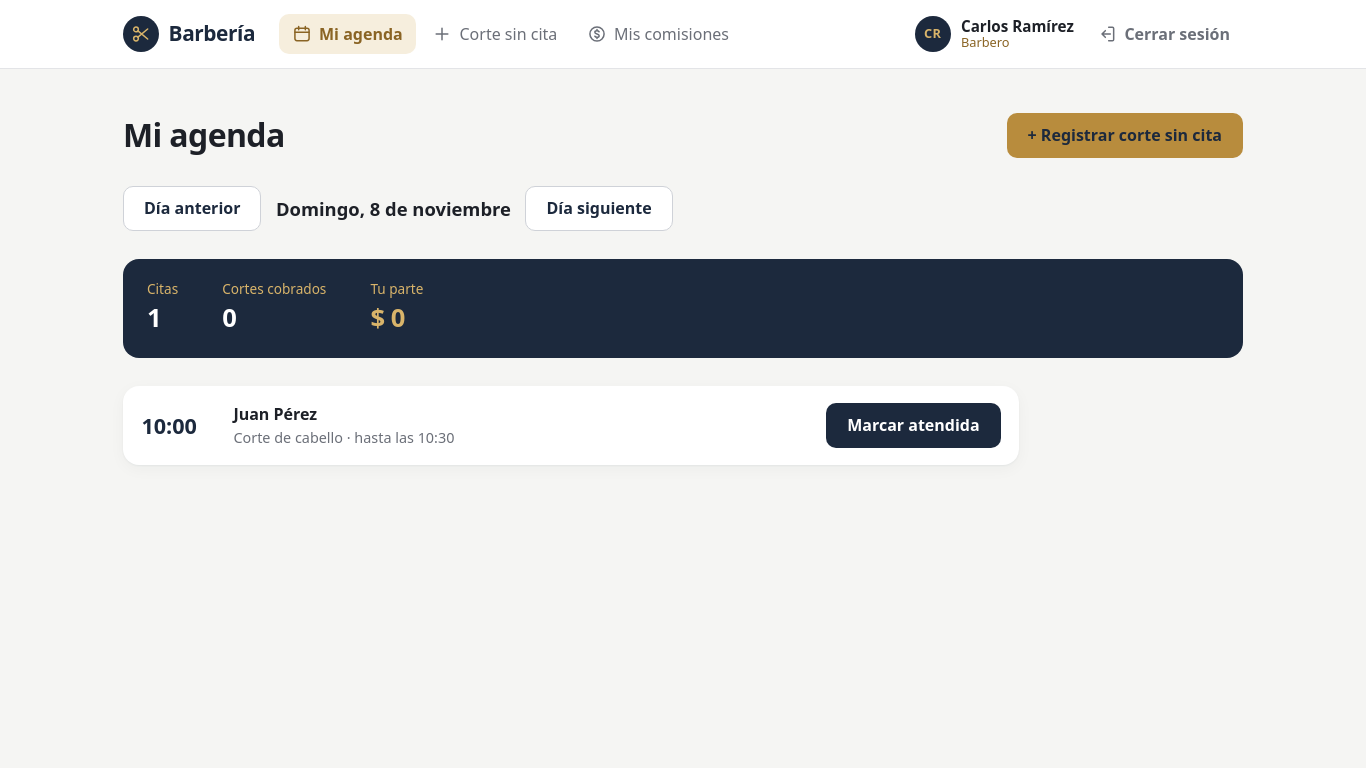
agenda del barbero (HU-05, HU-12, HU-27) › marca la cita como atendida y luego habilita el cobro
Click the button "Marcar atendida": (913, 425) [826,403,1001,448]
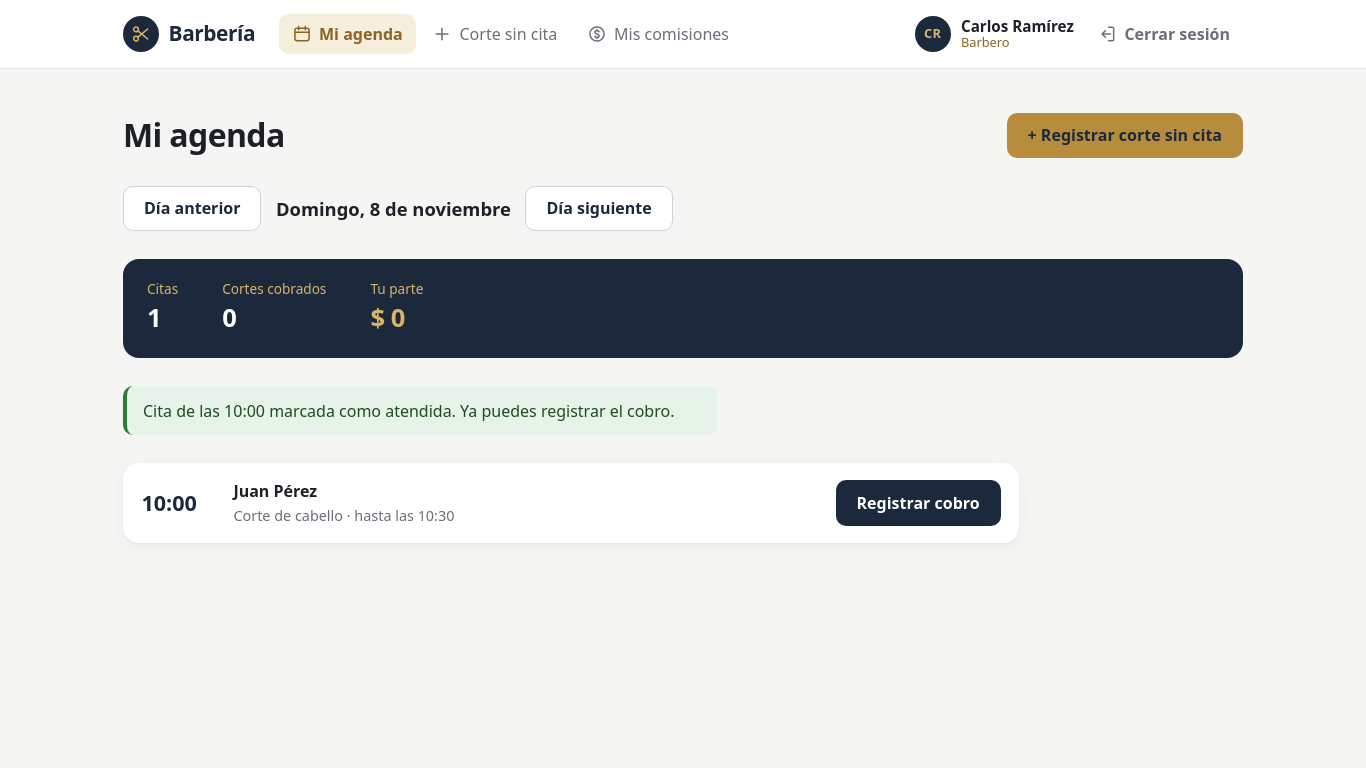
expect the message shows "marcada como atendida": met, box [143,400,674,422]
expect the button "Registrar cobro" is shown: met, box [836,480,1001,526]
